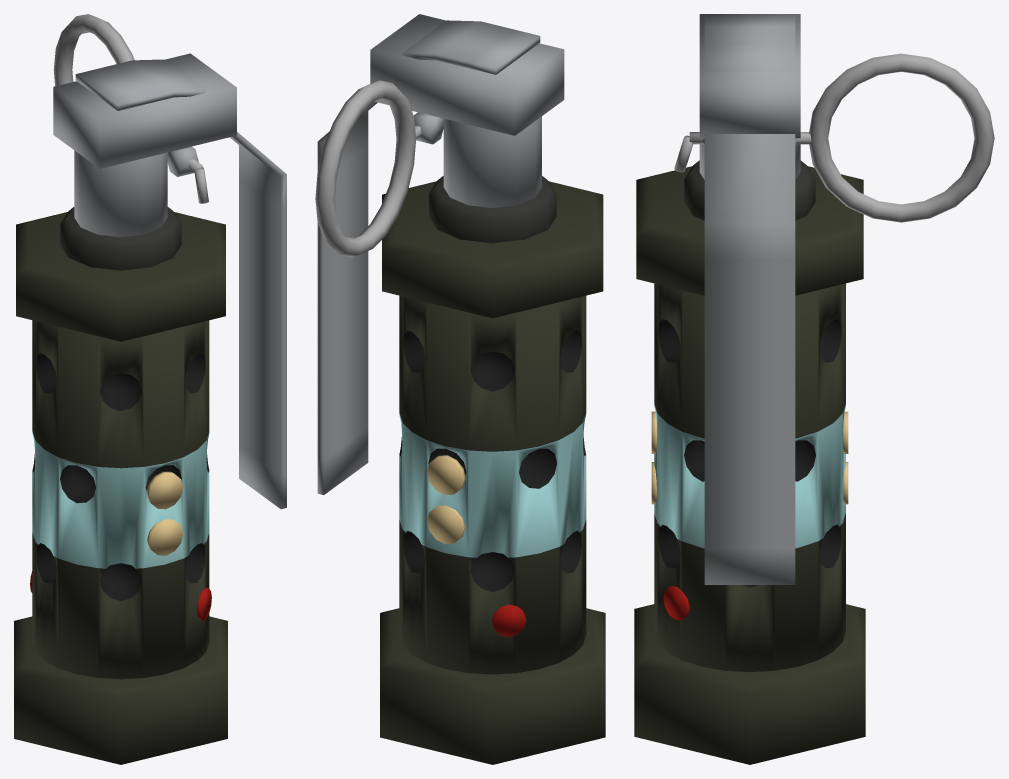
The model's file is GRN_Flashbang.fbx.
3 views of the same model, side by side, from view 1: azimuth 30°, elevation 25°; view 2: azimuth 150°, elevation 25°; view 3: azimuth 270°, elevation 25° (orthographic). The views are drawn at different scales.
Parts seen in each view (by area): view 1: Flashbang_Body, Flashbang_Spoon, Flashbang_Pin; view 2: Flashbang_Body, Flashbang_Spoon, Flashbang_Pin; view 3: Flashbang_Body, Flashbang_Spoon, Flashbang_Pin.
Part boxes in pixels (<box>): Flashbang_Body: <box>14,53,236,764</box>; Flashbang_Spoon: <box>75,59,286,509</box>; Flashbang_Pin: <box>53,14,208,203</box>; Flashbang_Body: <box>370,14,605,764</box>; Flashbang_Spoon: <box>317,20,540,494</box>; Flashbang_Pin: <box>315,80,443,257</box>; Flashbang_Body: <box>634,14,865,764</box>; Flashbang_Spoon: <box>704,14,795,584</box>; Flashbang_Pin: <box>674,53,994,222</box>.
Size of the model in its own units: 0.0625 by 0.1503 by 0.0714.
